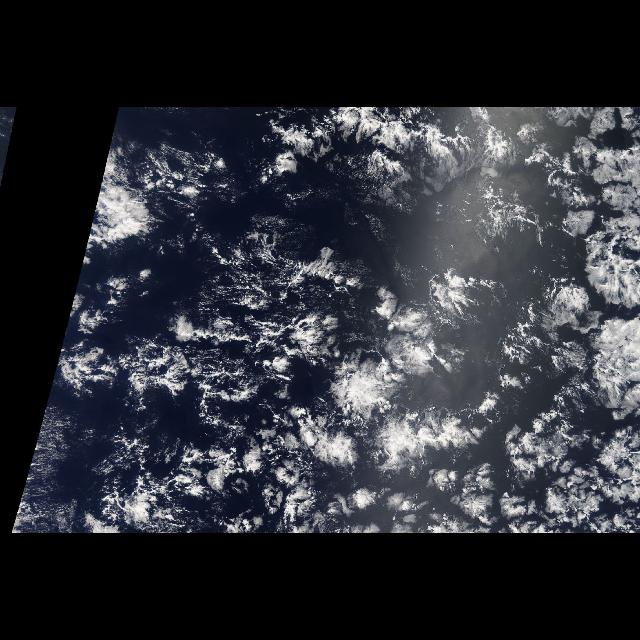Flower: (278, 134, 640, 532)
